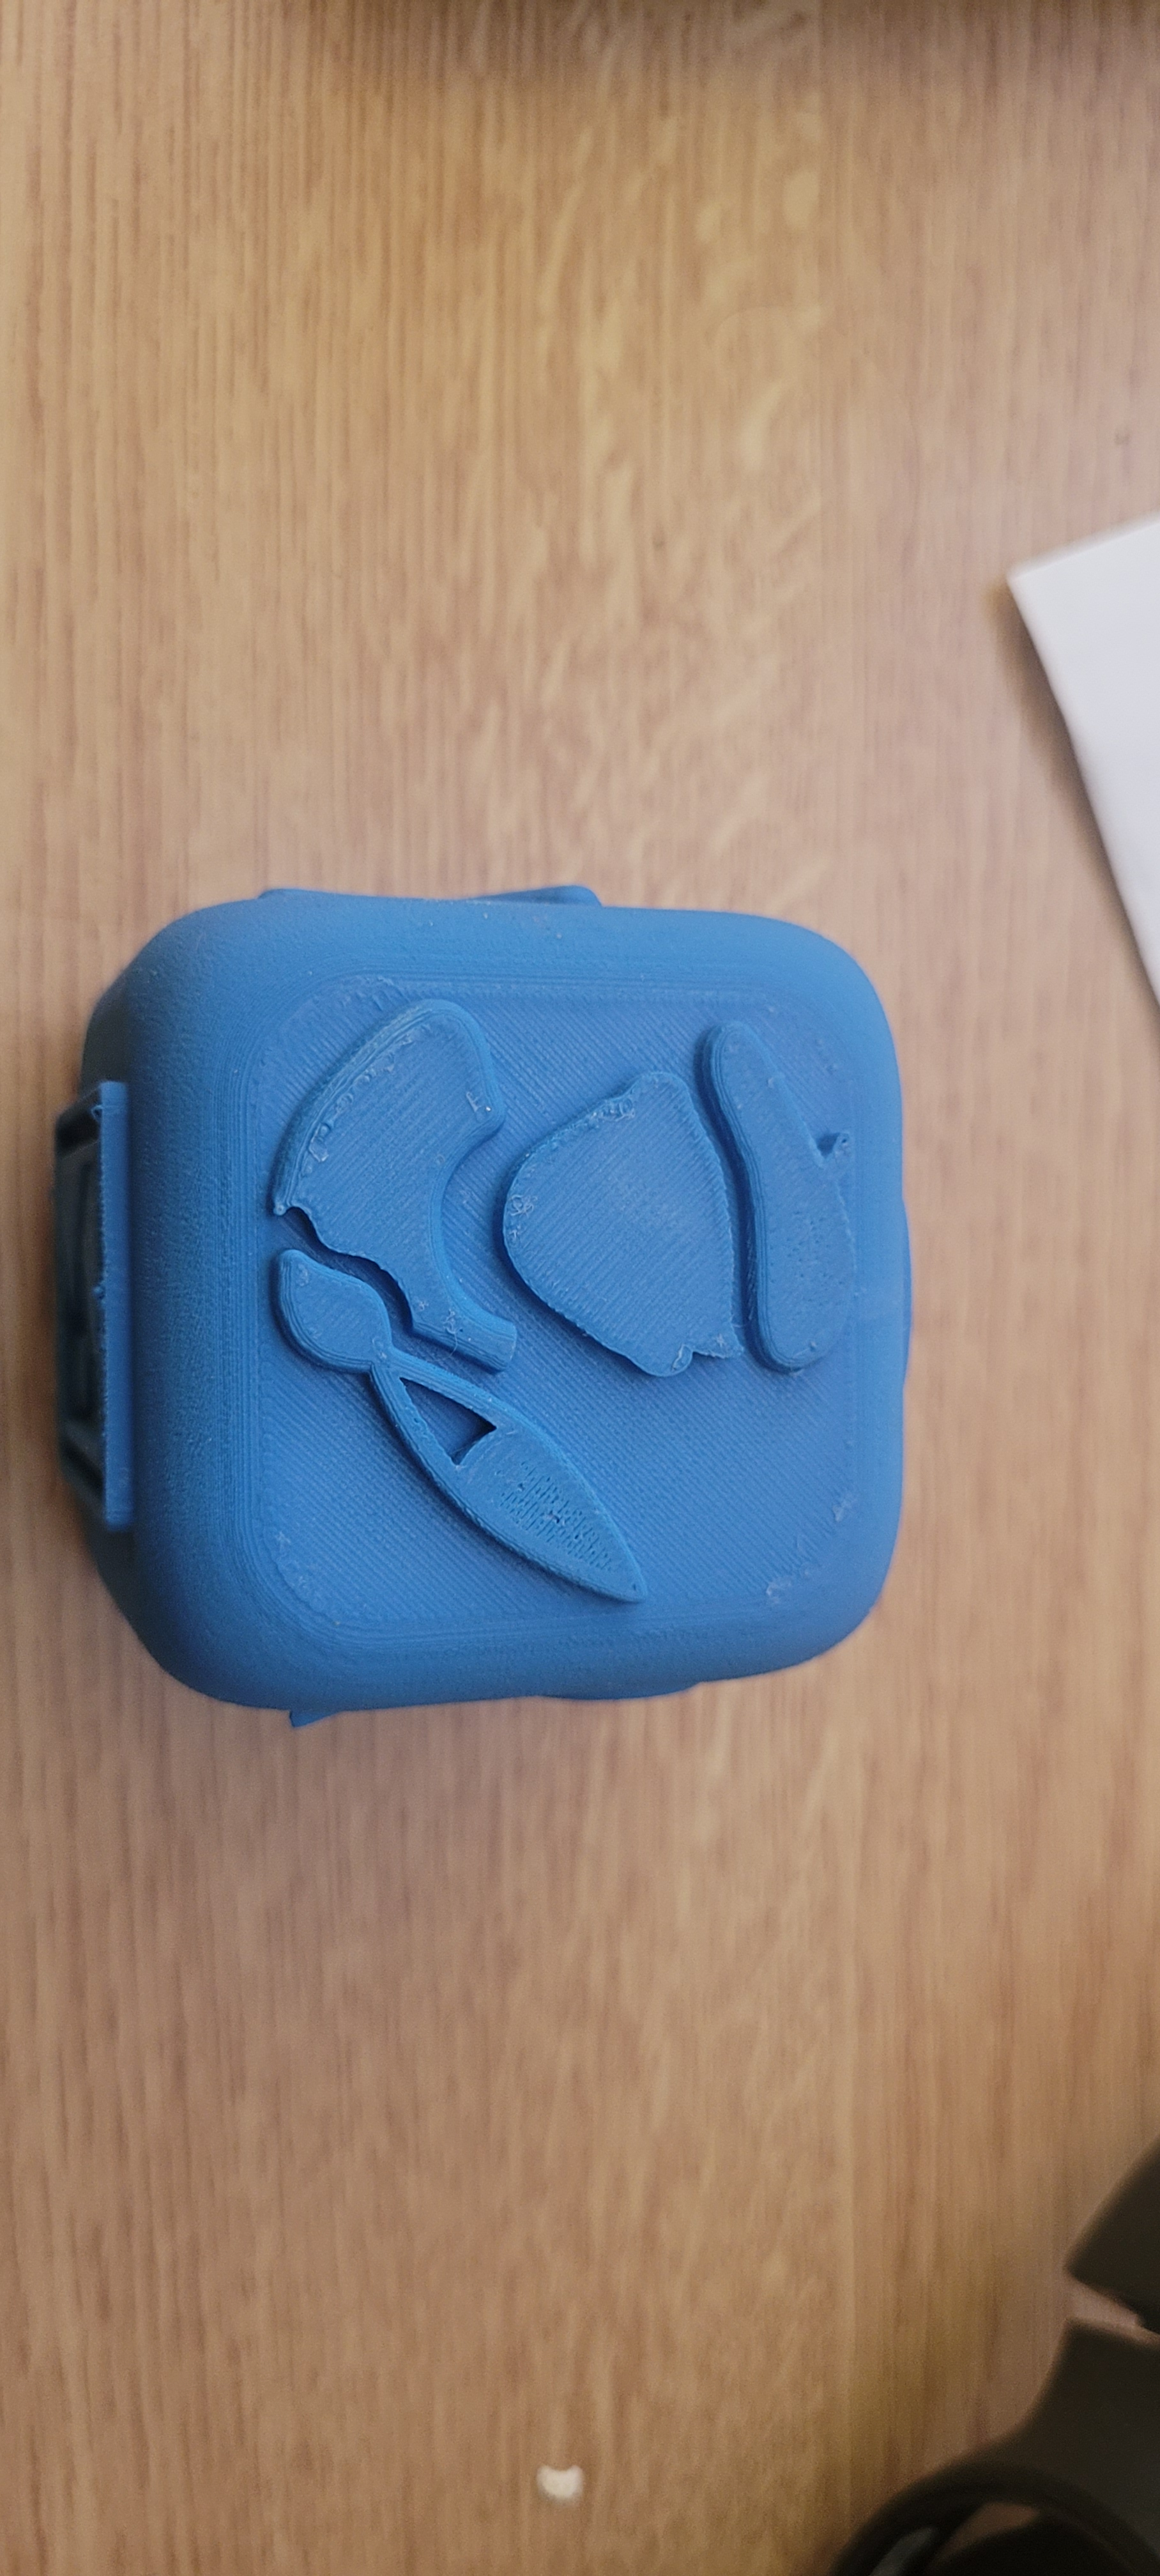Artist_Info: (151, 835, 930, 1699)
